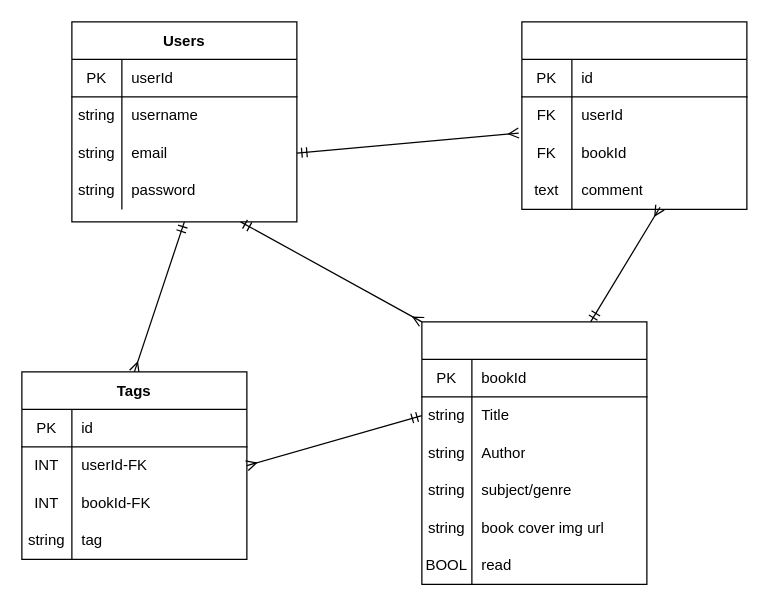
Some shapes in this 769 by 606 pixel diagram are drawn without their labels. The box of each missing label's shape, as (x1, y1, x2, y2) in pixels:
Books: (421, 321, 647, 584)
Comments: (521, 21, 747, 209)
